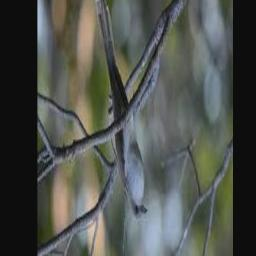Cuckoo: (96, 0, 148, 221)
